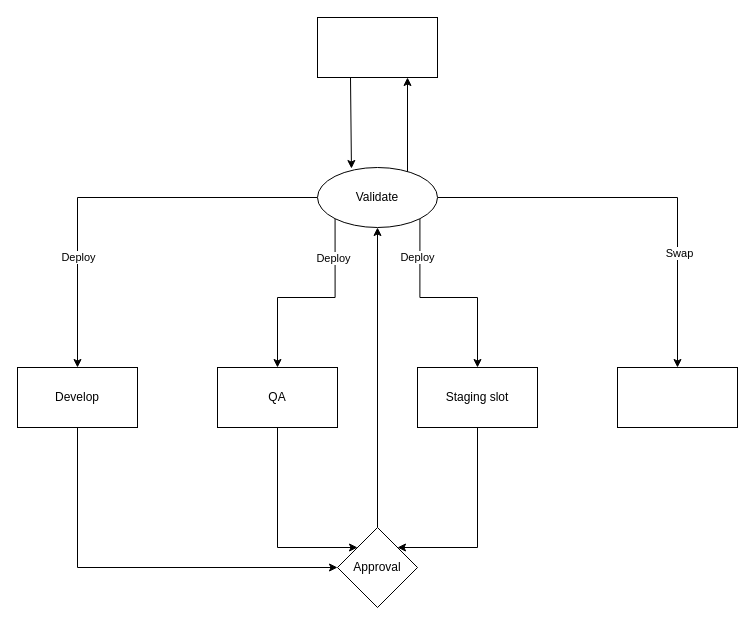
This 755x625 diagram has some shape labels left out. The shapes that lost their labels are listed below. From the top down, each one's centre as x and y in pixels, then its label:
At point 377,47: "Git".
At point 677,397: "Prod".
